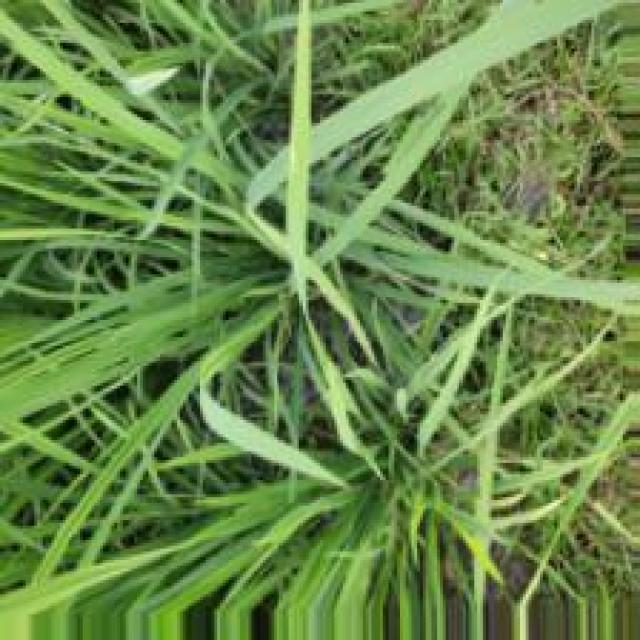HealthyLeaf: (317, 82, 420, 148), (86, 91, 143, 139), (141, 295, 208, 327)
